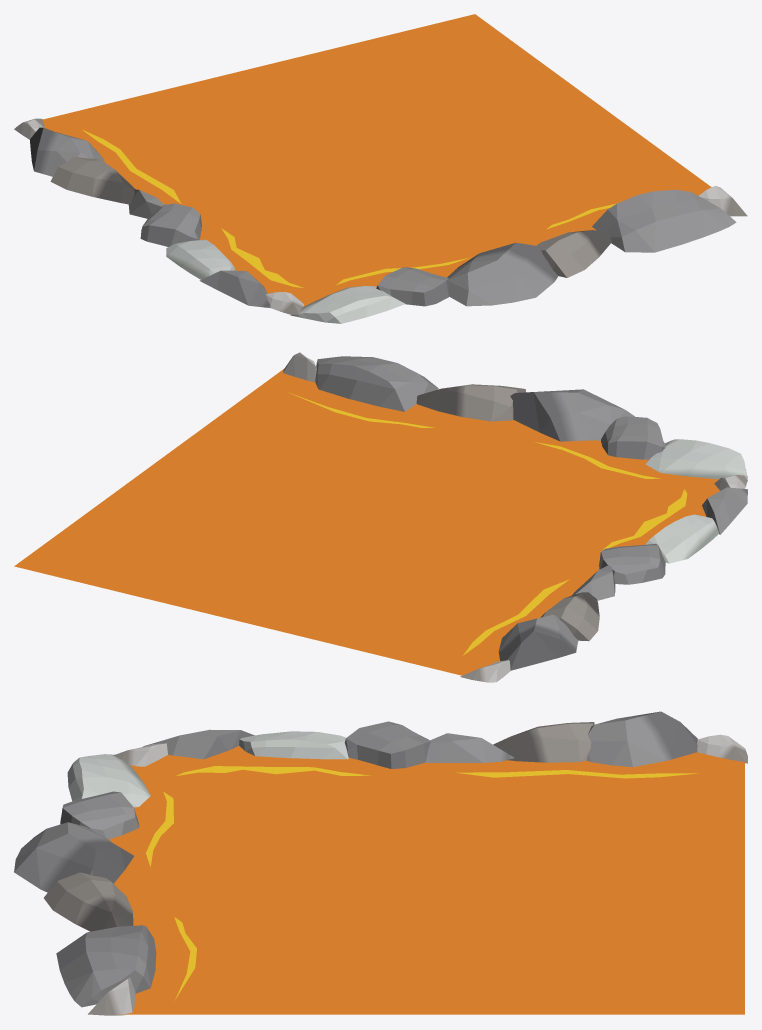
File: cheeseriver.glb
The picture shows the model from 3 angles, top to bottom: view 1: azimuth 30°, elevation 25°; view 2: azimuth 150°, elevation 25°; view 3: azimuth 270°, elevation 25°; orthographic projection. The views are drawn at different scales.
Visible parts, largest first — view 1: Water; view 2: Water; view 3: Water.
Boxes of the visible parts, x1,y1,x2,y2 form: Water: (14,14,747,323); Water: (14,352,747,682); Water: (14,711,747,1015).
Size of what is drawn, in the model's own units: 6.92 by 0.3772 by 7.48.
Materials: 1 (1 with a texture image).
